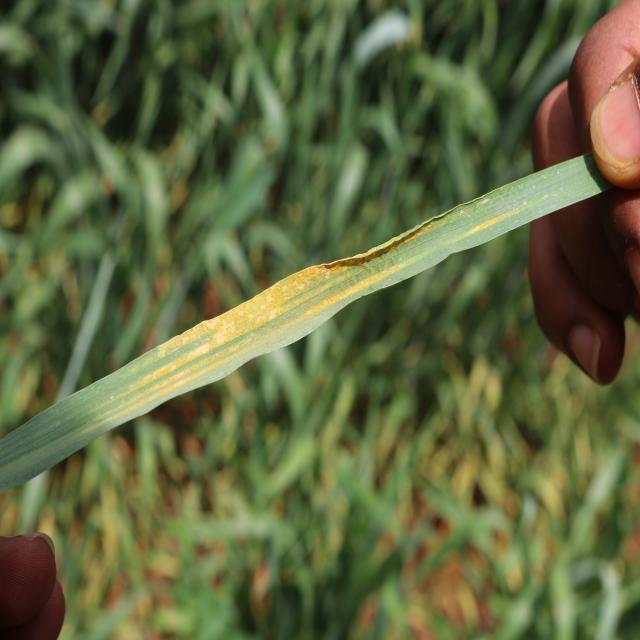Stripe Rust: (121, 207, 450, 420)
